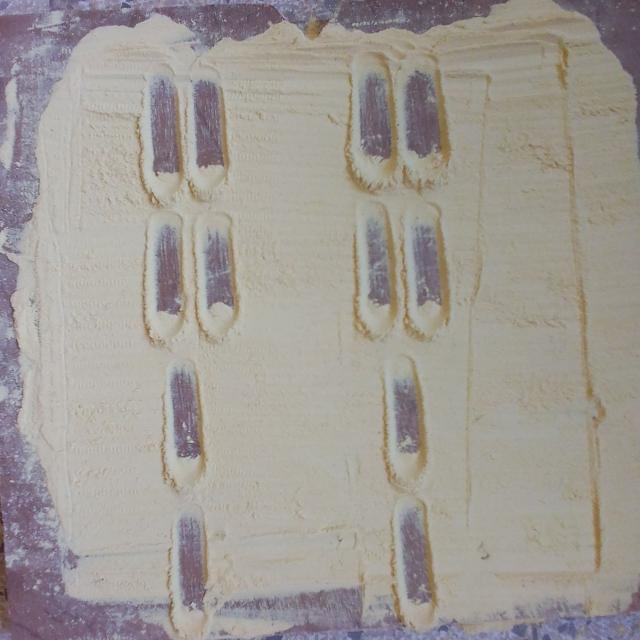double: (144, 210, 242, 322), (349, 206, 452, 311), (346, 68, 456, 166), (136, 74, 237, 180)
single: (379, 354, 431, 460), (164, 514, 216, 620), (391, 501, 443, 606), (160, 360, 207, 464)
